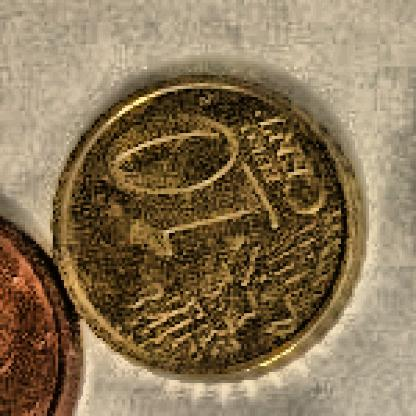coin: (53, 75, 368, 382)
